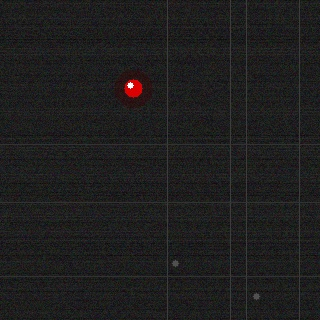red_fault: (122, 77, 144, 99)
